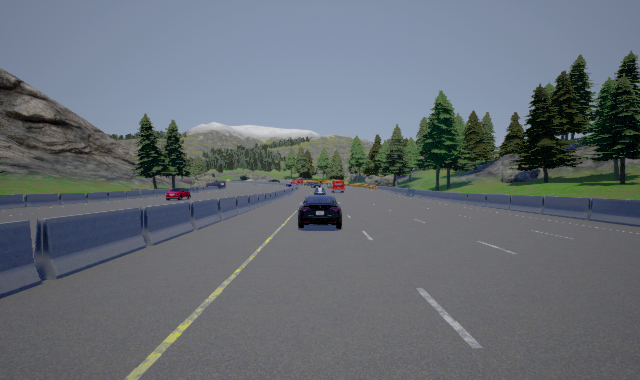vehicle: (298, 197, 344, 229), (166, 187, 191, 200), (331, 178, 346, 194)
